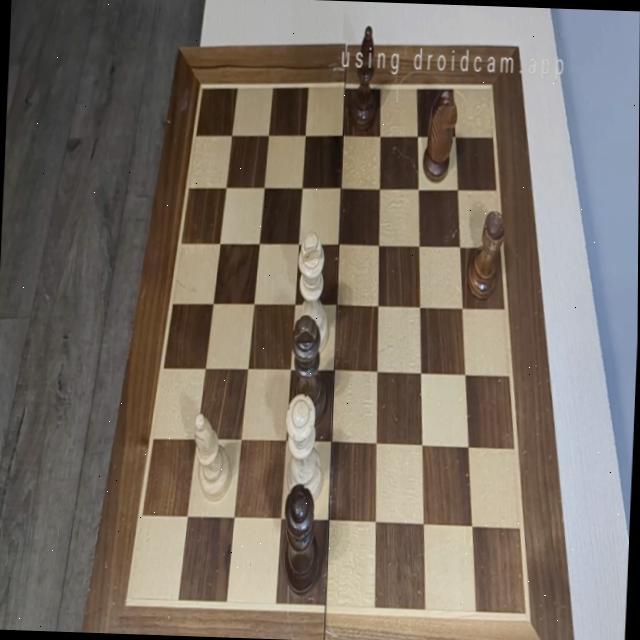black_bishop: (348, 26, 380, 132)
black_king: (289, 314, 330, 422)
black_knight: (422, 87, 458, 183)
black_queen: (281, 483, 323, 592)
black_rook: (465, 208, 506, 302)
white_bishop: (192, 412, 234, 503)
white_king: (294, 230, 333, 355)
white_queen: (283, 394, 325, 498)
